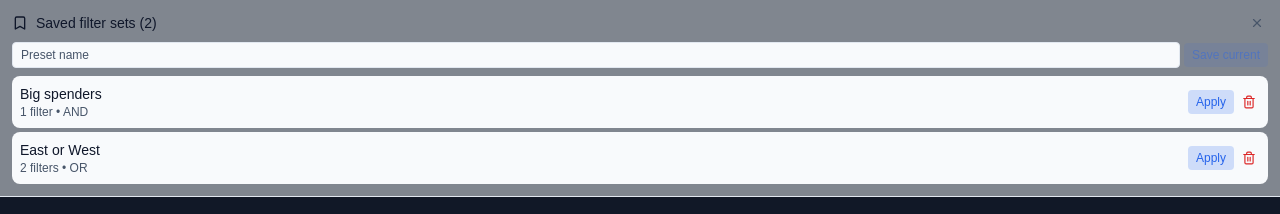
Test: CsvFilterPresetsPanel › saves the current filters under a typed name and clears the input
The image size is (1280, 214).
Type "My preset" into the field with test id "preset-name-input". click: x=596, y=55
box: left=12, top=42, right=1180, bottom=68
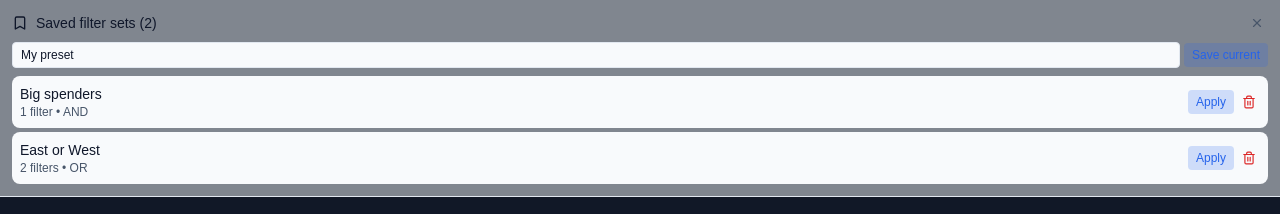
Click the button with test id "save-preset-button". click: x=1226, y=55
box: left=1184, top=43, right=1268, bottom=67
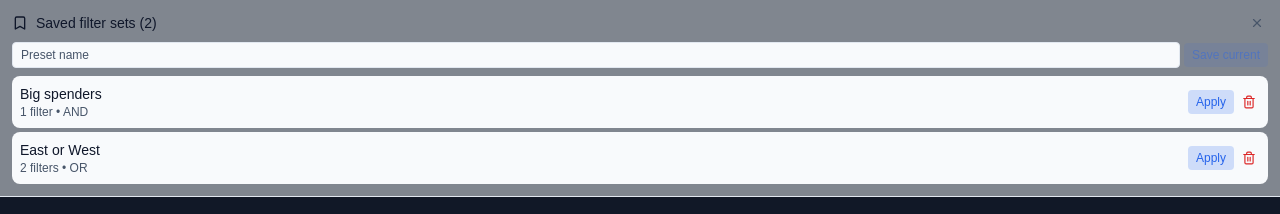
Result: the field with test id "preset-name-input" is empty at left=12, top=42, right=1180, bottom=68
